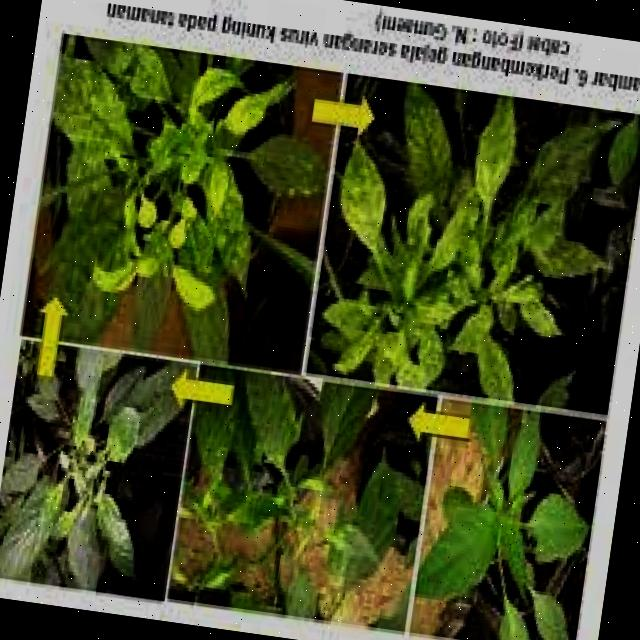yellow: (28, 42, 340, 332)
